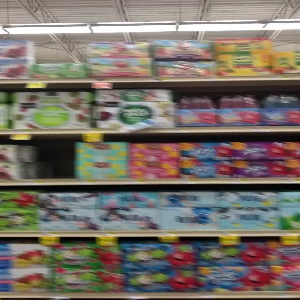void: (25, 133, 77, 183)
